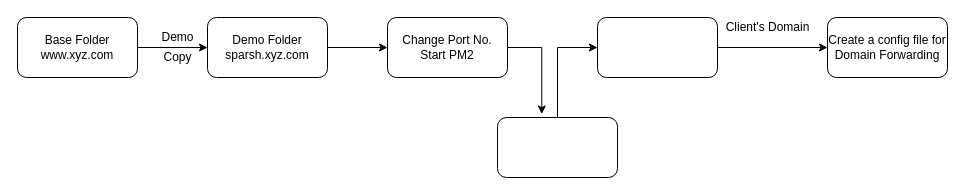
This 965x195 diagram has some shape labels left out. Here are the shapes that lost their labels. From the top down, the box of each, then its label:
(596, 16, 718, 78): Create Config File Installing SSL
(496, 116, 618, 178): Create Record for SubDomain
